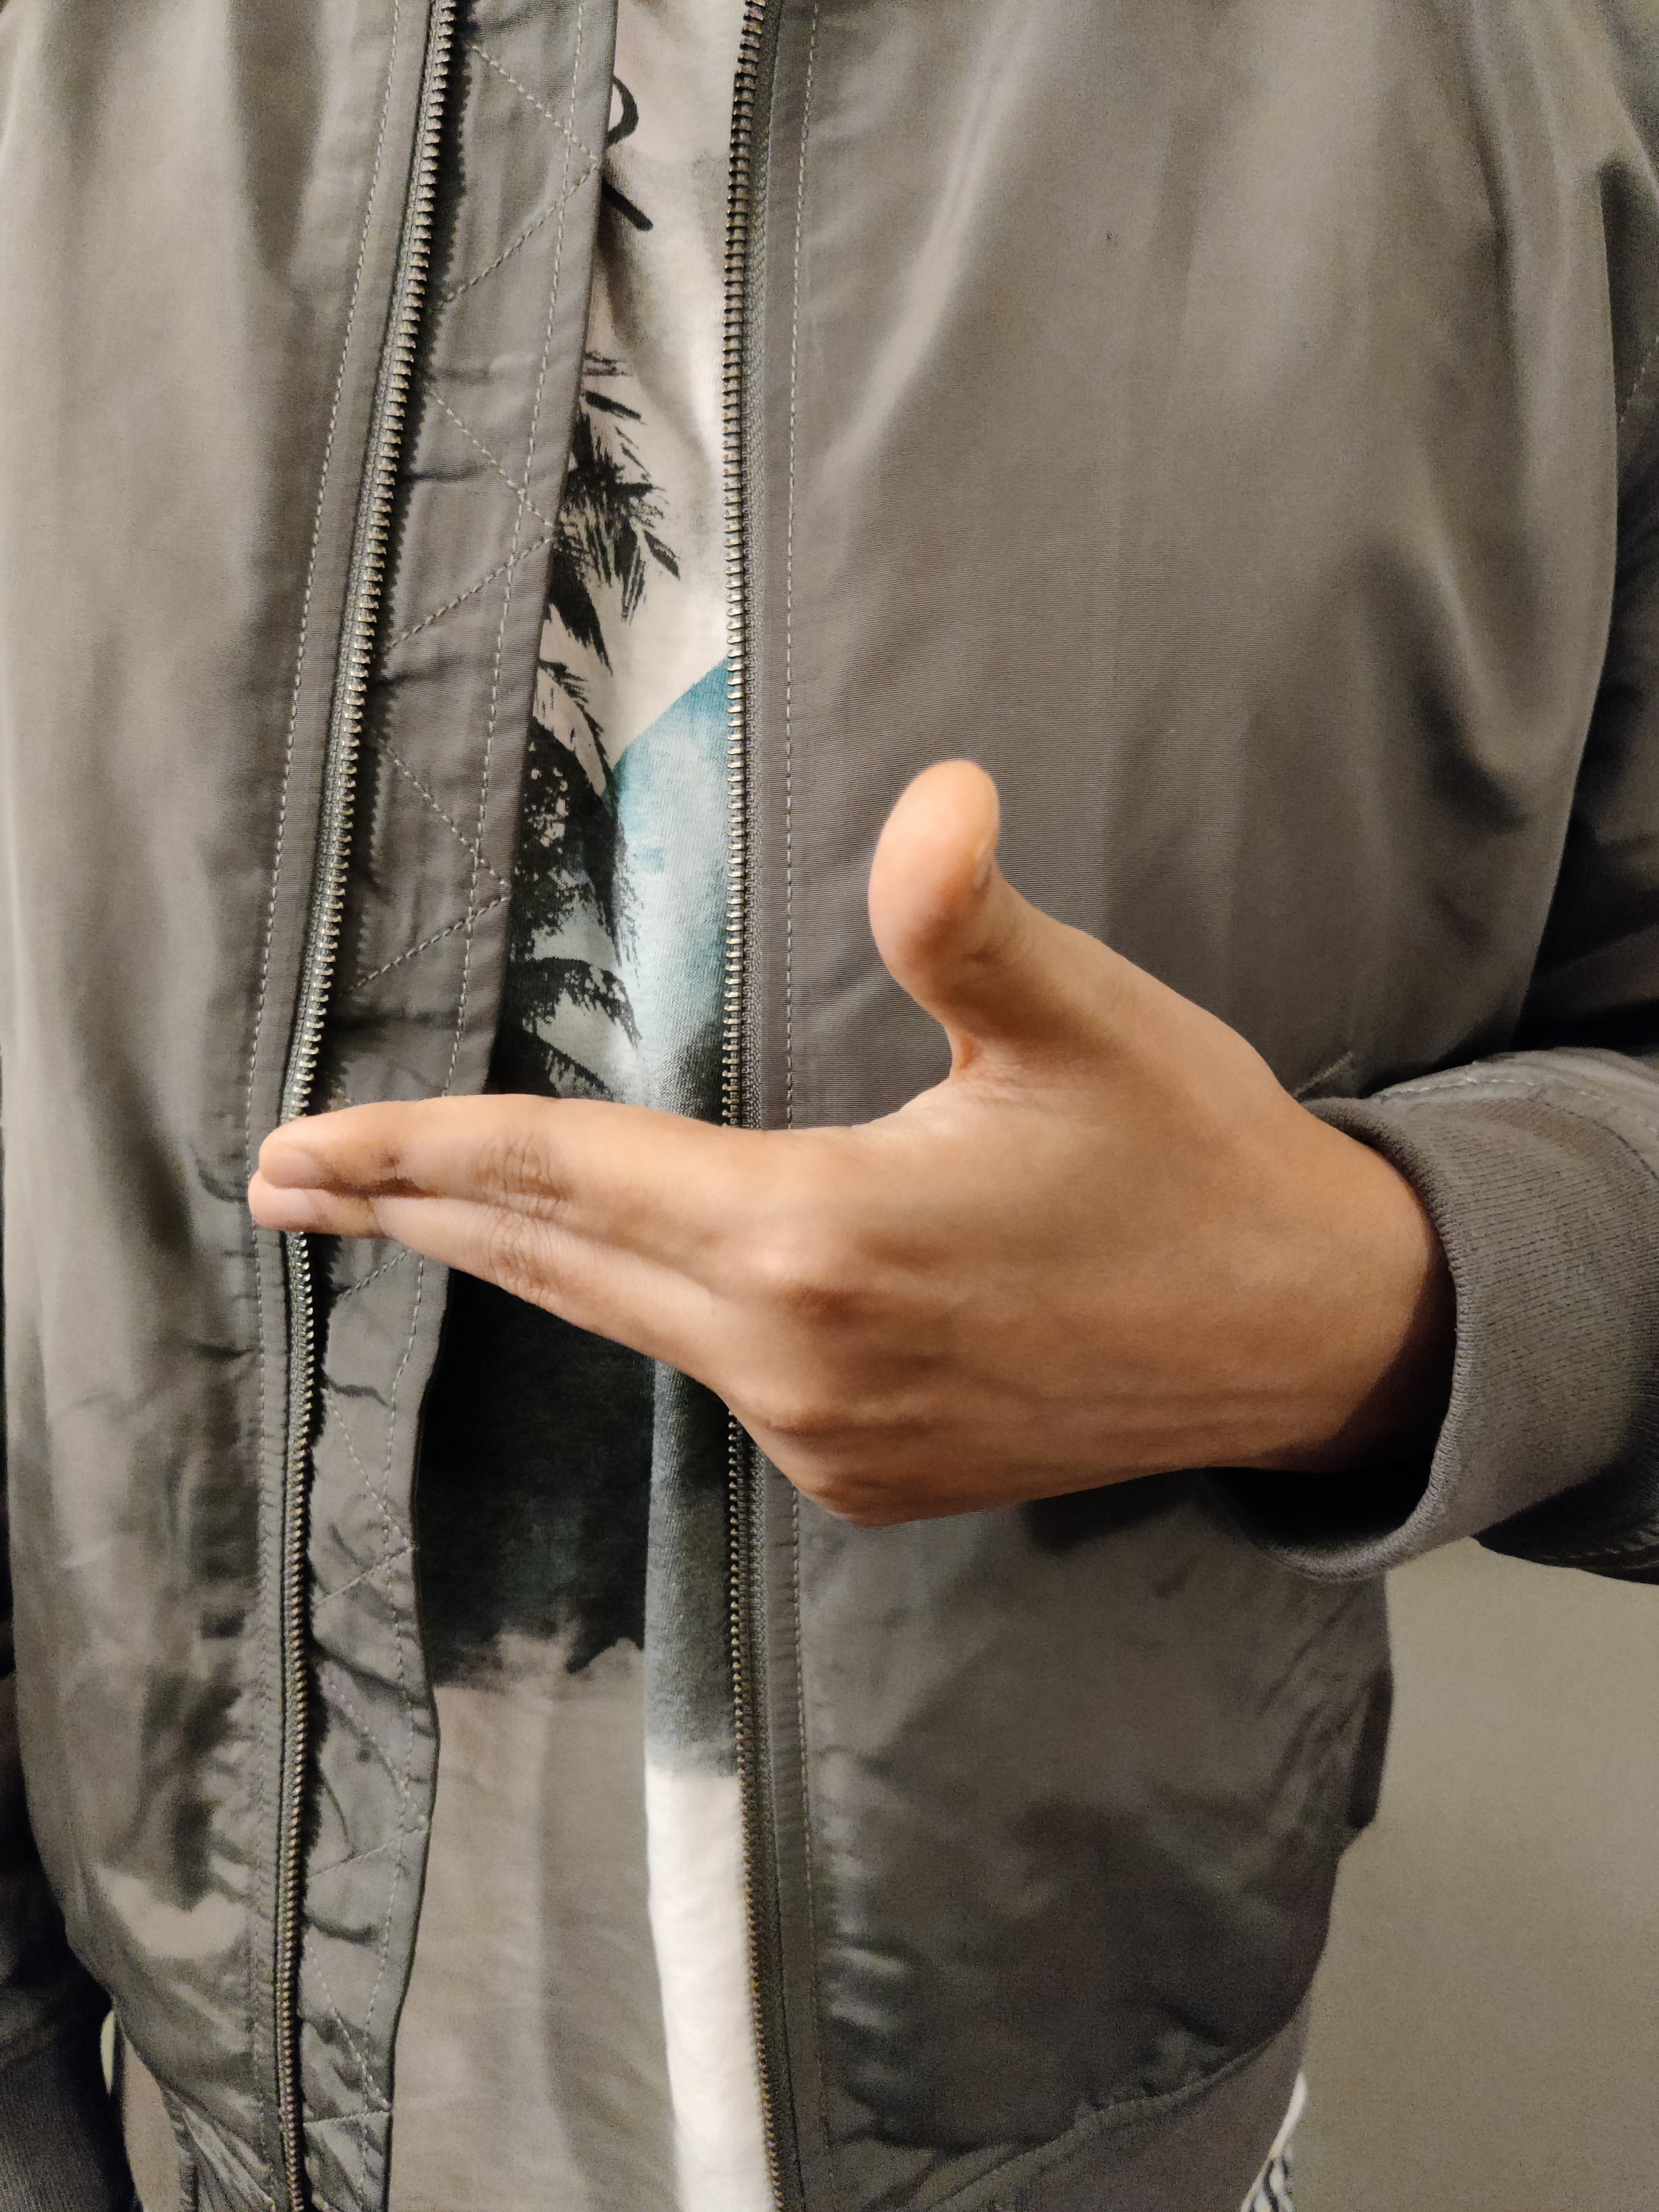right: (103, 667, 1577, 1660)
